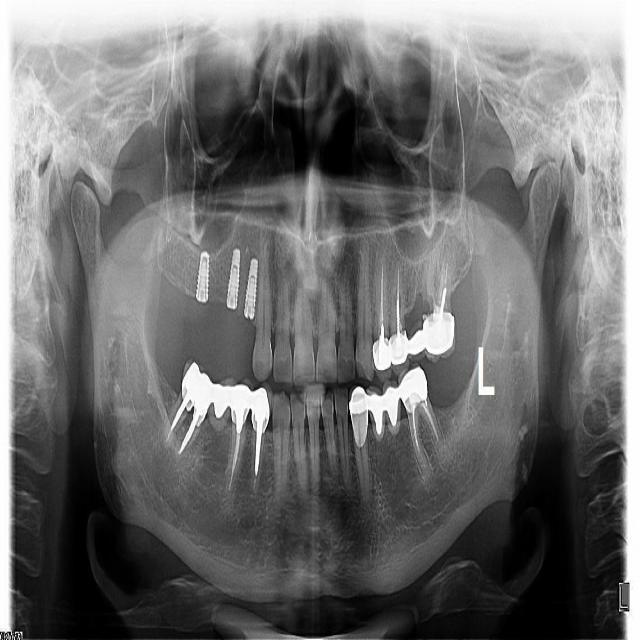55: (226, 248, 240, 310), (243, 258, 257, 319), (195, 251, 209, 303)
71: (179, 395, 210, 457), (172, 380, 197, 432), (253, 398, 266, 477), (437, 285, 450, 322), (396, 299, 401, 335)
74: (419, 401, 444, 443), (229, 432, 241, 490), (379, 263, 387, 334), (412, 408, 421, 459), (396, 266, 401, 298), (442, 262, 448, 286)
NucleOSS Implant: (234, 404, 249, 431)
Sterngold Implant: (421, 291, 435, 316)
Zimmer Implant: (173, 355, 221, 425), (388, 359, 438, 413), (344, 383, 374, 448), (420, 312, 458, 362), (207, 373, 236, 430), (364, 383, 391, 440), (381, 378, 404, 437), (250, 381, 275, 433), (231, 377, 254, 428), (387, 331, 411, 376), (370, 337, 392, 380), (406, 324, 426, 364)
